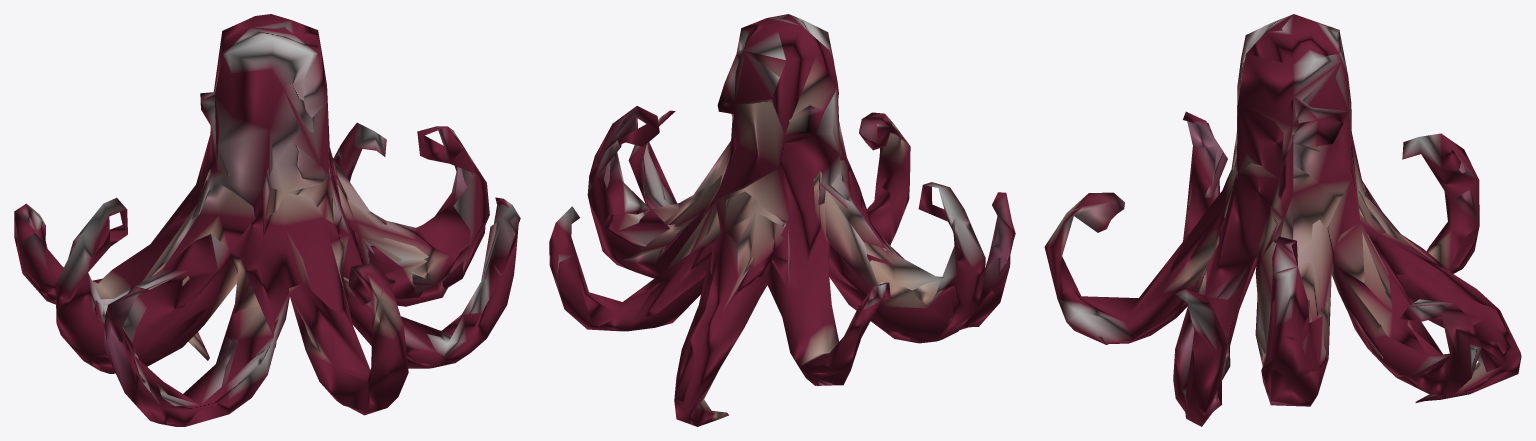
The model's file is gen3d-giant-squid-lod0.glb.
The picture shows the model from 3 angles, left to right: view 1: azimuth 30°, elevation 25°; view 2: azimuth 150°, elevation 25°; view 3: azimuth 270°, elevation 25°; orthographic projection. The views are drawn at different scales.
Visible parts, largest first — view 1: part_0; view 2: part_0; view 3: part_0.
Part boxes in pixels (bbox=[...]): part_0: bbox=[14, 14, 520, 426]; part_0: bbox=[549, 14, 1015, 426]; part_0: bbox=[1044, 14, 1521, 426].
Size of the model in its own units: 1.16 by 0.9947 by 1.13.
